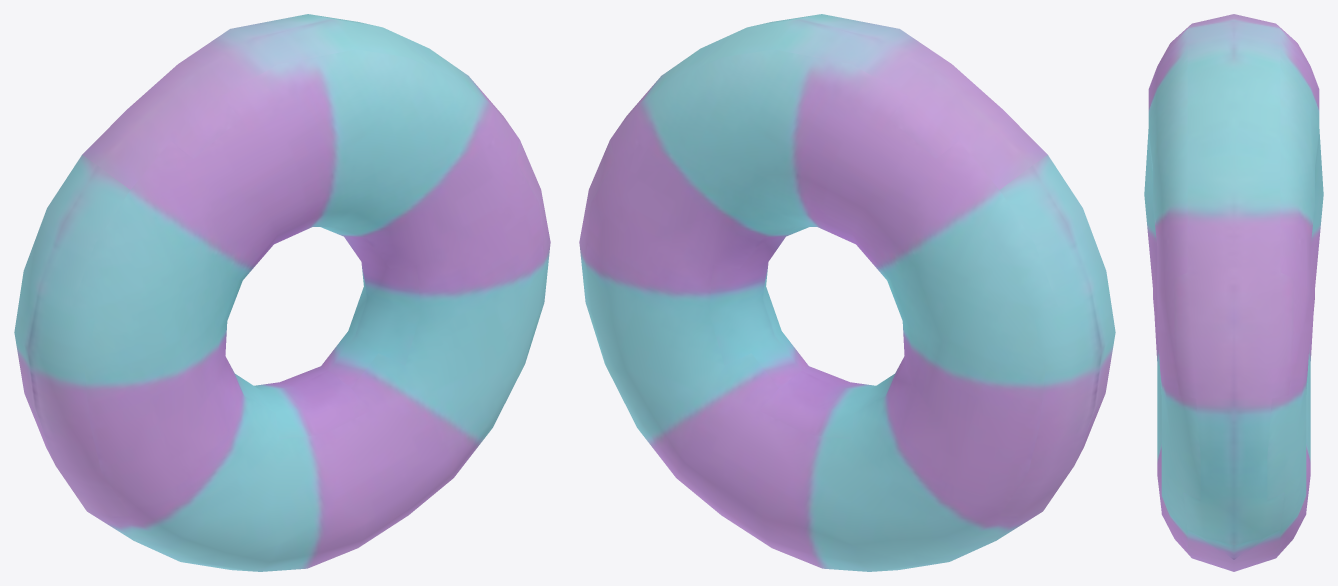
File: float-ring1.glb
The picture shows the model from 3 angles, left to right: view 1: azimuth 30°, elevation 25°; view 2: azimuth 150°, elevation 25°; view 3: azimuth 270°, elevation 25°; orthographic projection. The views are drawn at different scales.
Parts seen in each view (by area): view 1: Boat.001; view 2: Boat.001; view 3: Boat.001.
Part boxes in pixels (x1,y1,x2,y2): Boat.001: (14,14,550,571); Boat.001: (579,14,1115,571); Boat.001: (1144,14,1323,571).
Size of the model in its own units: 0.5127 by 0.5127 by 0.1623.
1 material, 1 textured.
